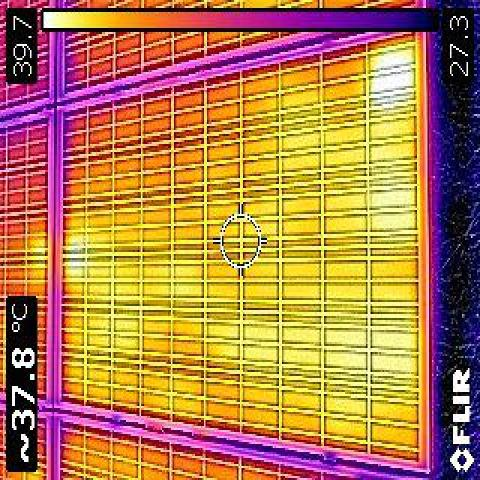fault: (369, 53, 415, 99), (65, 263, 83, 280), (64, 237, 81, 250)
